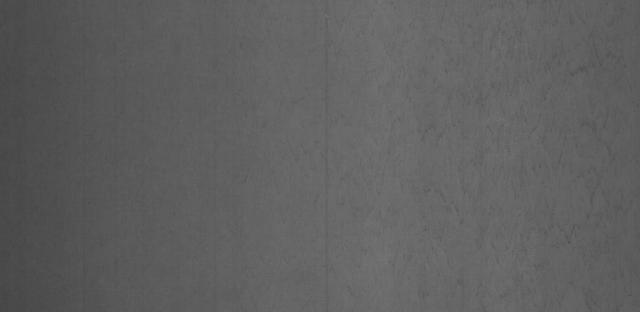silk_spot: (356, 11, 634, 289)
